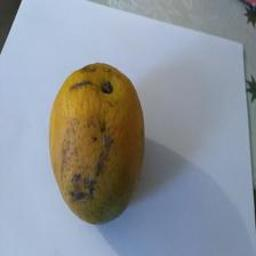Orange Semirotten: (27, 60, 154, 226)
